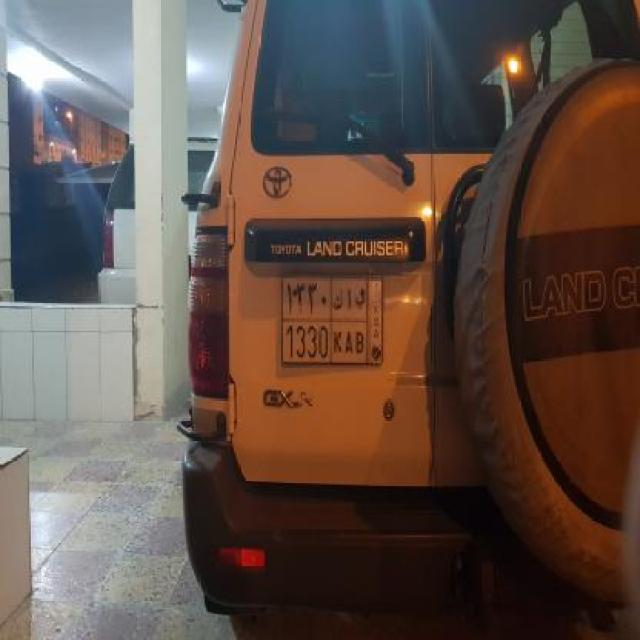license_plate: (279, 272, 384, 370)
